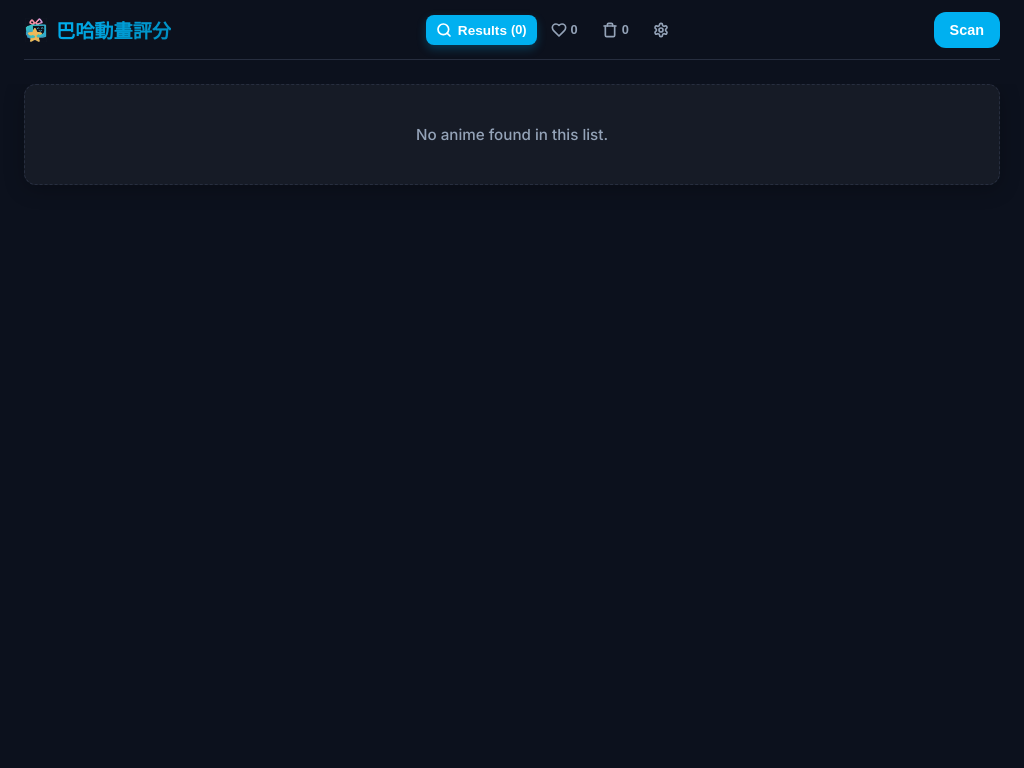
Test case: Scan functionality › renders scan stats panel when scan finishes and allows dismissing it
The width and height of the screenshot is (1024, 768).
Click the button "Scan".
click(967, 30)  # box [934,12,1000,48]
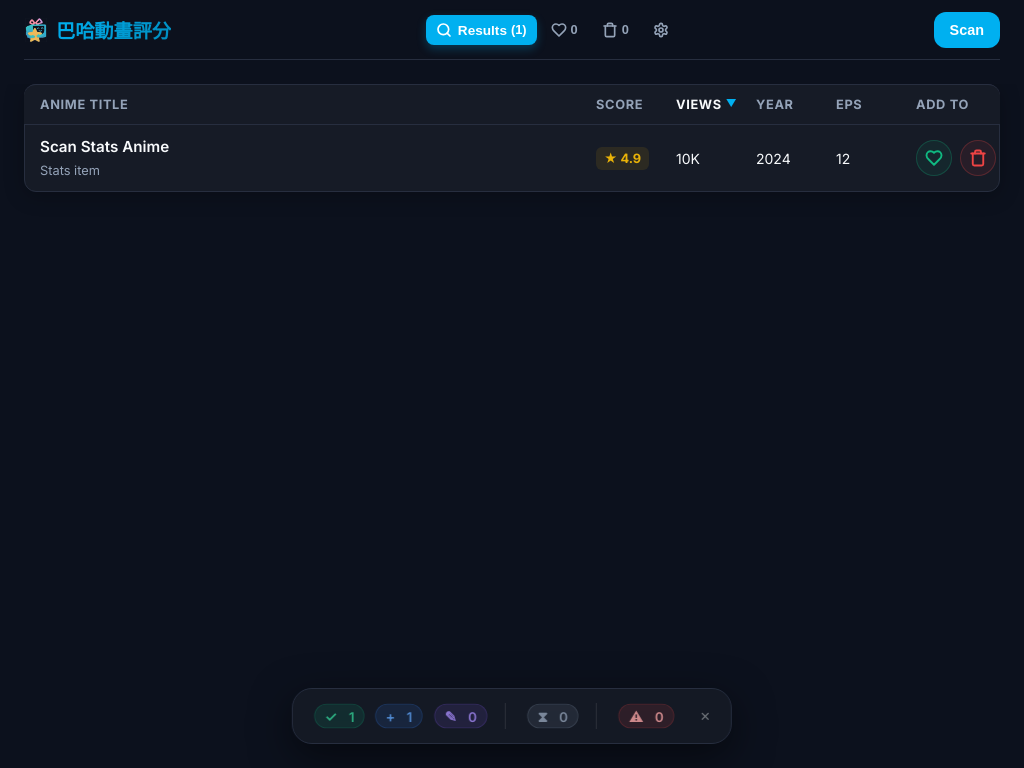
Expected: the element with test id "scan-stats-container" is shown, [309,697,715,735]
Expected: the element with test id "chip-success" is shown, [314,704,365,728]
Expected: the element with test id "chip-added" is shown, [375,704,423,728]
Note: Click dismiss button to clear stats
Click the button named "Dismiss scan results".
click(705, 716)  # box [695,706,715,726]
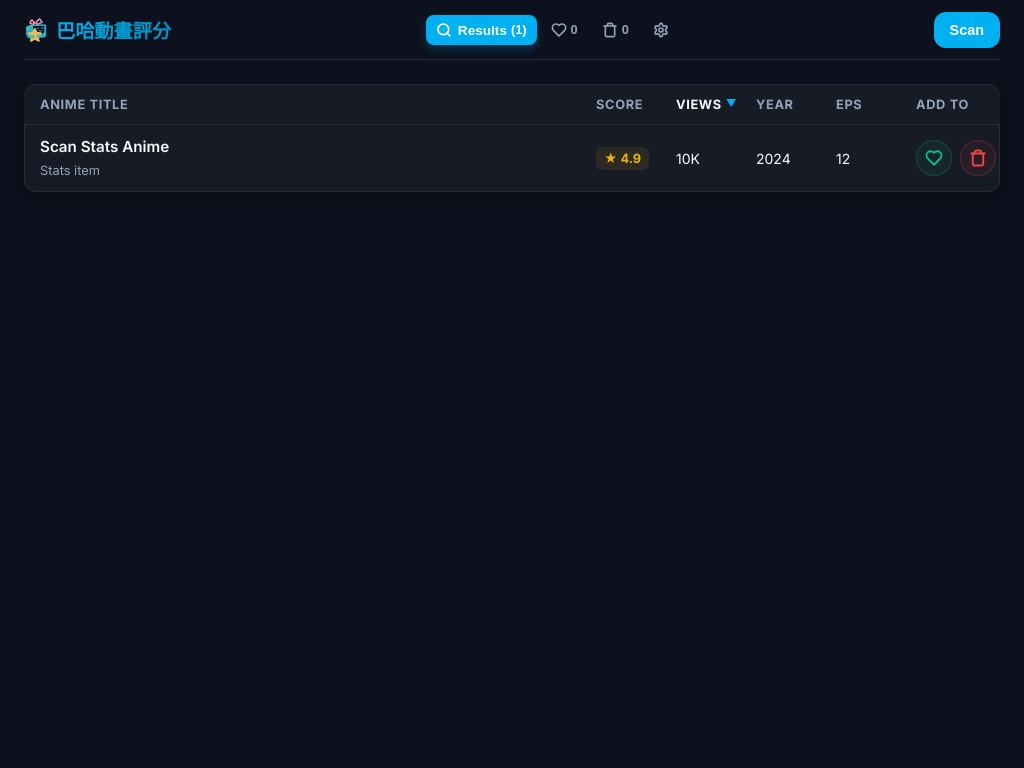
Expected: the element with test id "scan-stats-container" is gone
